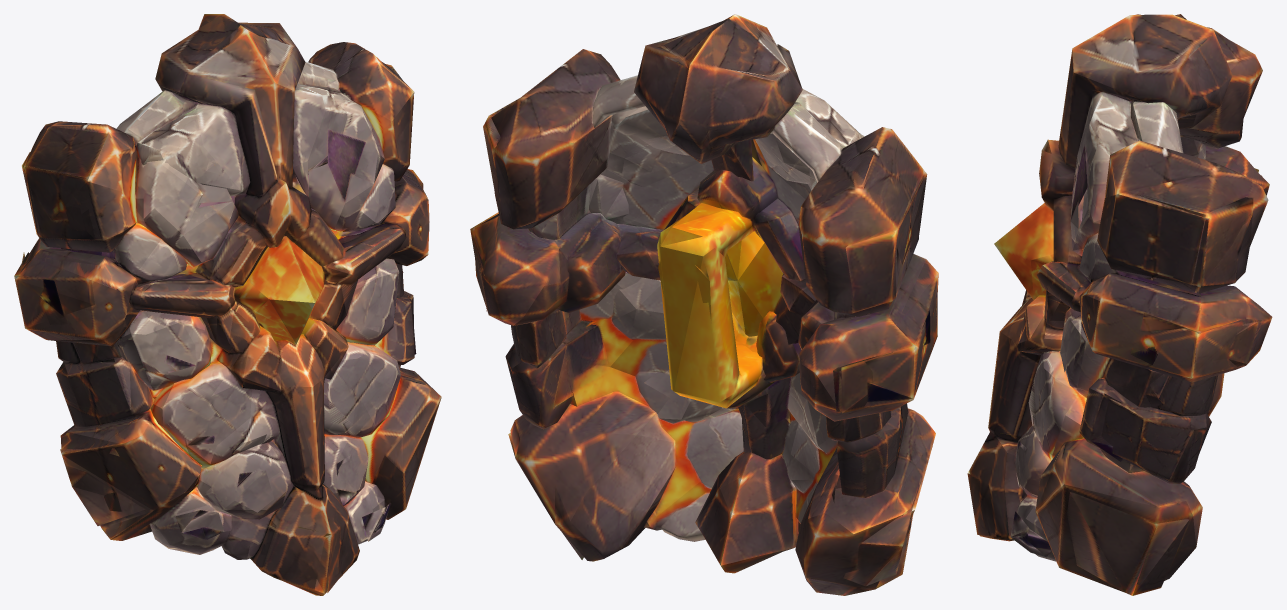
Rendered from crag_greatshield_meshy.glb.
3 renders of one model, left to right at view 1: azimuth 30°, elevation 25°; view 2: azimuth 150°, elevation 25°; view 3: azimuth 270°, elevation 25°, orthographic. The views are drawn at different scales.
Size of the model in its own units: 1.62 by 2 by 1.06.
1 material, 1 textured.
